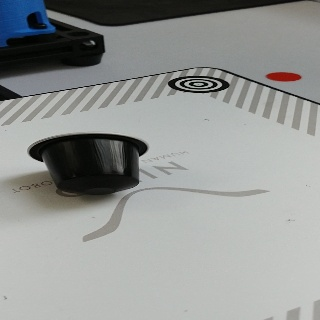capsule_10: (26, 130, 150, 196)
